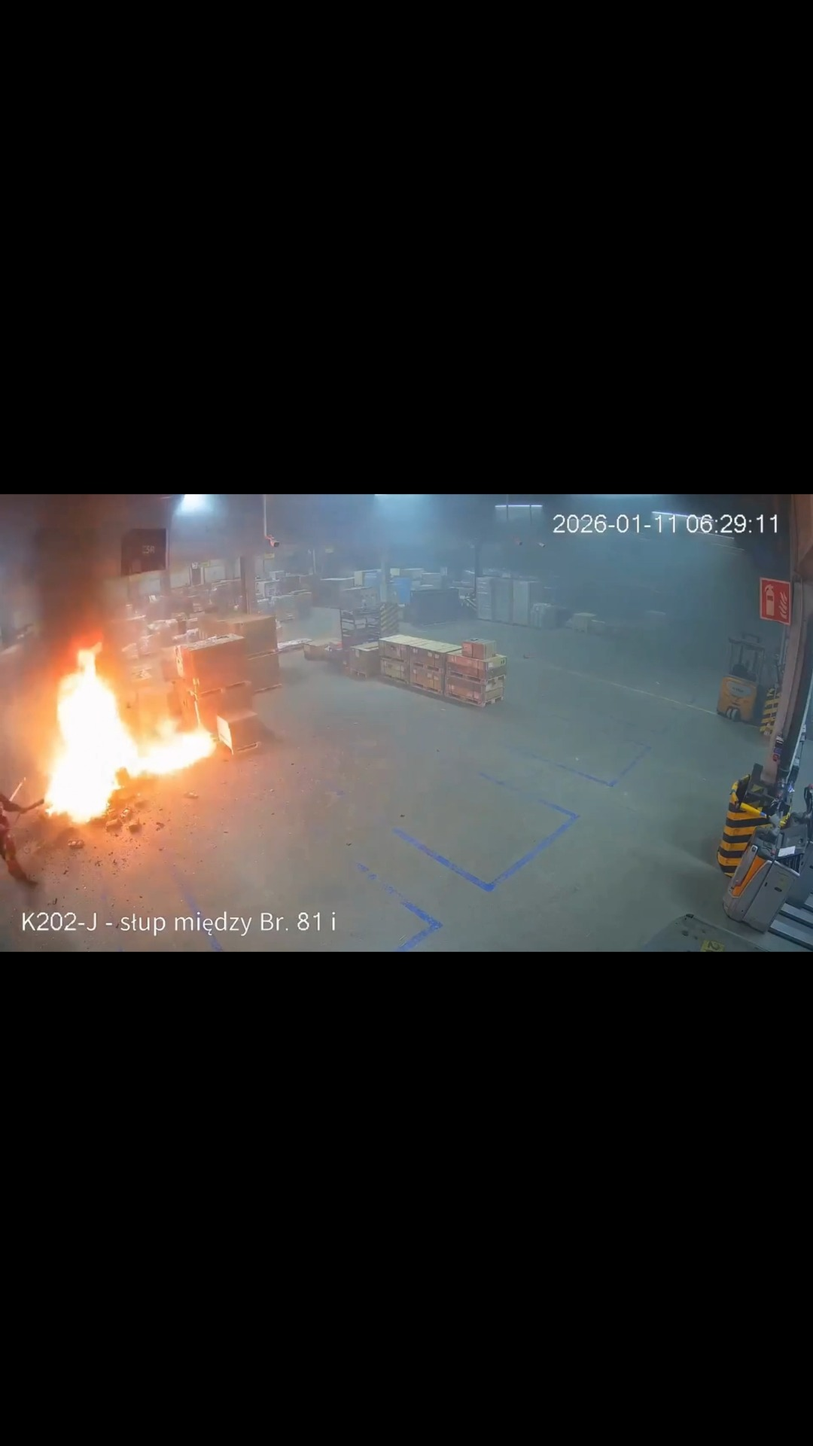fire: (41, 629, 218, 827)
smoke: (0, 495, 181, 689)
